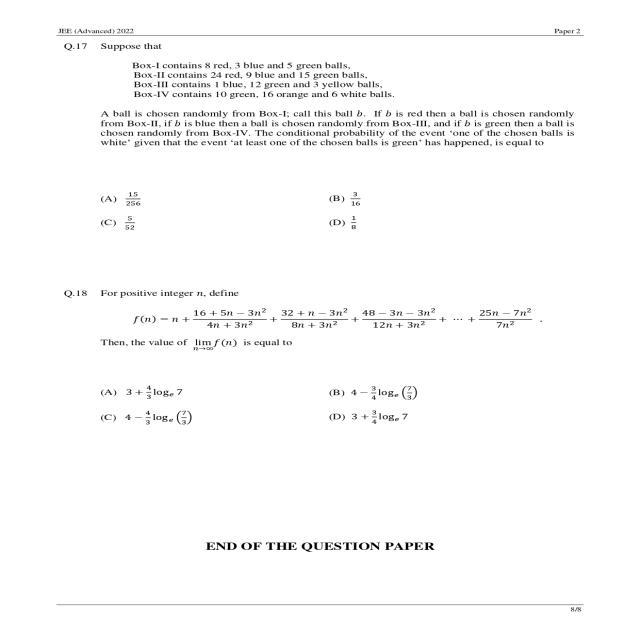Answer_Block: (53, 371, 597, 474), (53, 168, 597, 250)
Question_Answer_Block: (53, 257, 597, 474), (53, 36, 597, 250)
Question_Block: (53, 36, 597, 159), (53, 258, 597, 356)
Question_Paper_Area: (53, 36, 597, 516)
